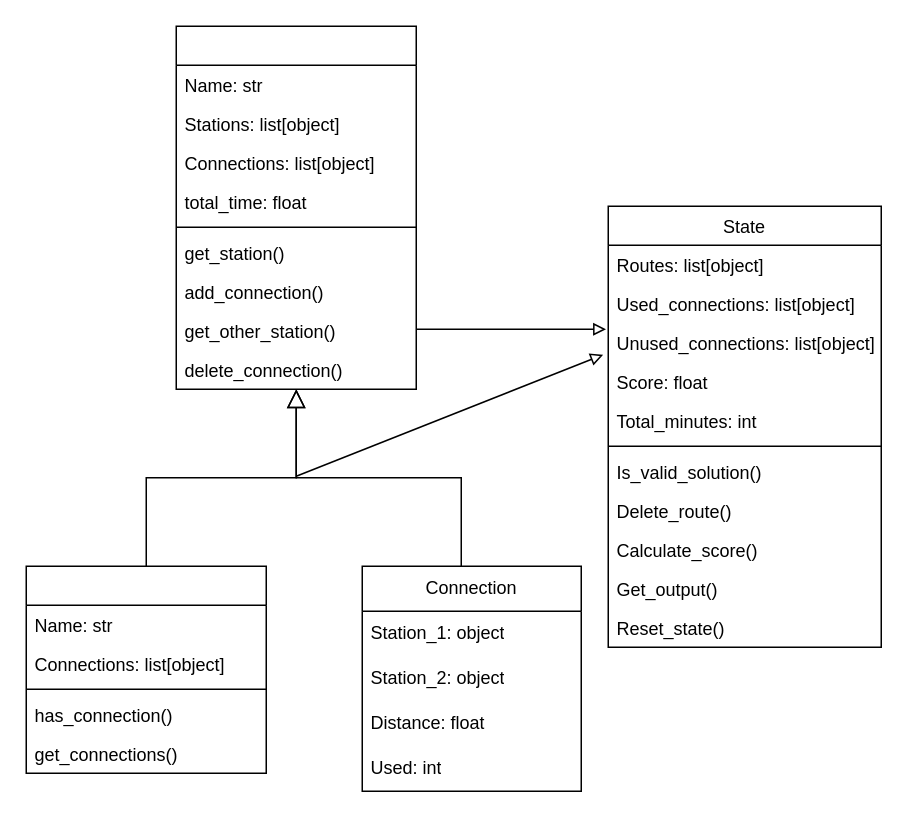
Image size: 908x818. Some labels were removed from this diagram. Each missing label, with the box of its shape:
Route: (175, 25, 416, 389)
Station: (25, 565, 266, 773)
